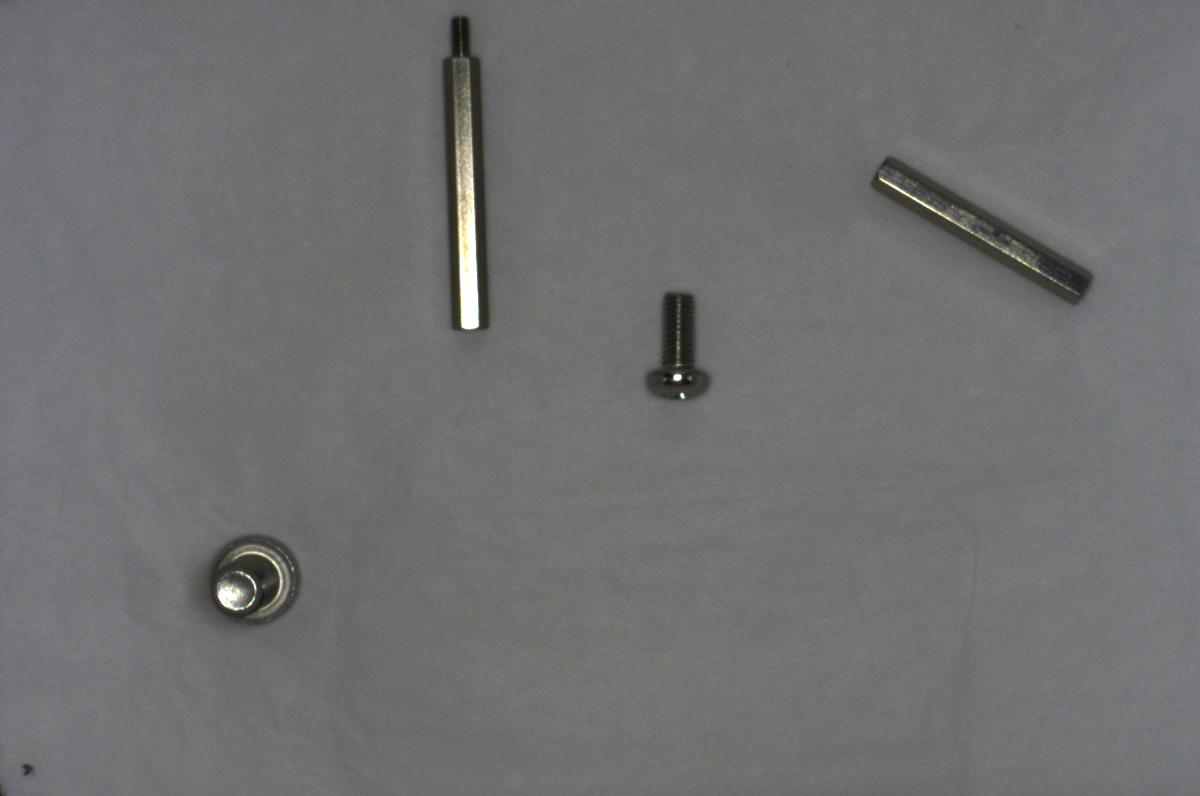Double hexagonal column: (862, 152, 1102, 312)
Hexagon screw: (208, 530, 302, 627)
Hexagonal steel column: (437, 8, 504, 342)
Round head screw: (642, 279, 712, 402)
